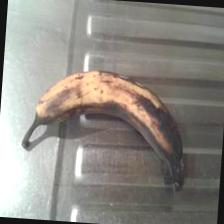Banana Rotten: (20, 62, 202, 192)
